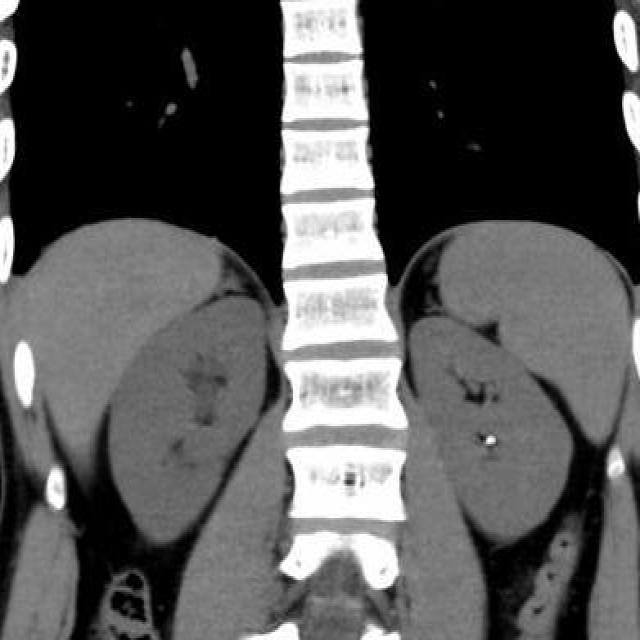Tas_Var: (483, 432, 499, 450)
